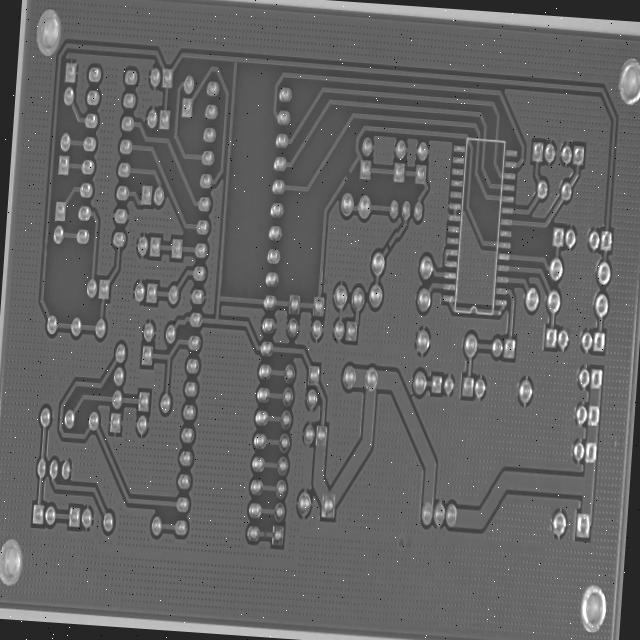open_circuit: (337, 101, 347, 122), (250, 512, 258, 527), (379, 189, 387, 200)
